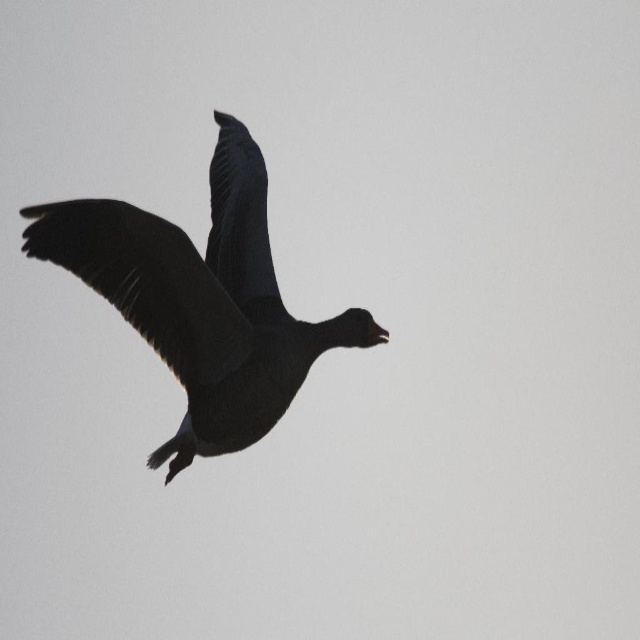Goose: (16, 106, 388, 486)
